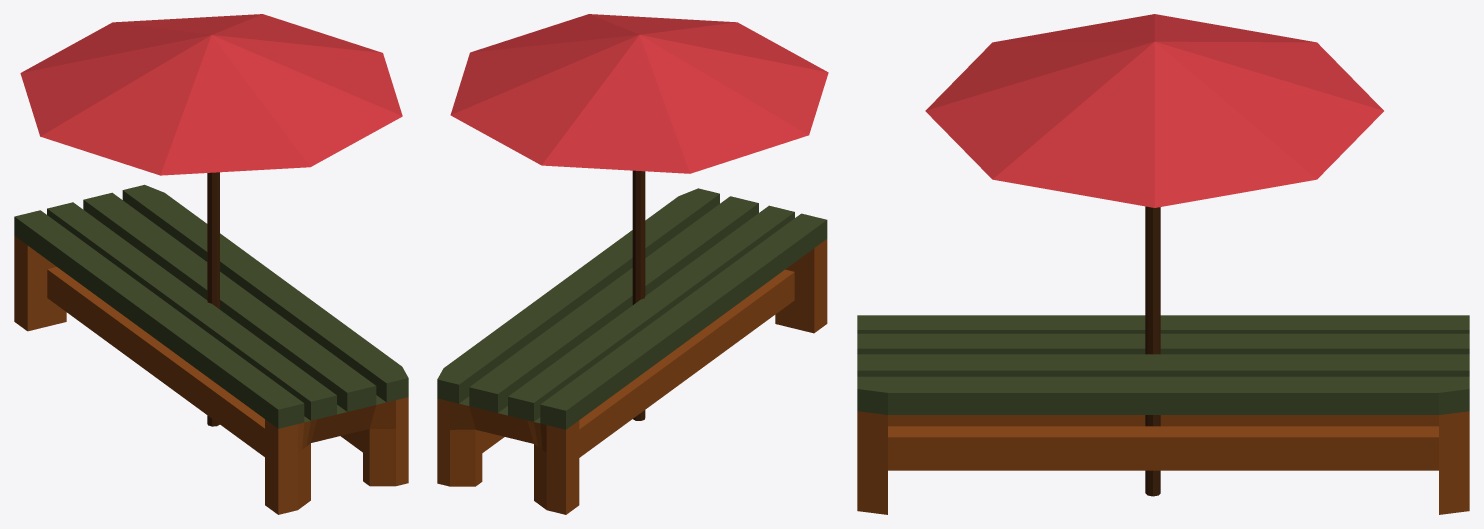
File: ParkTableWithUmbrella.fbx
3 views of the same model, side by side, from view 1: azimuth 30°, elevation 25°; view 2: azimuth 150°, elevation 25°; view 3: azimuth 270°, elevation 25° (orthographic). The views are drawn at different scales.
Visible parts, largest first — view 1: Cube.003, Cone, Cylinder; view 2: Cube.003, Cone, Cylinder; view 3: Cube.003, Cone, Cylinder.
Boxes of the visible parts, x1,y1,x2,y2 form: Cube.003: [14, 184, 408, 514]; Cone: [20, 14, 402, 175]; Cylinder: [207, 172, 219, 426]; Cube.003: [437, 188, 827, 514]; Cone: [450, 14, 828, 173]; Cylinder: [632, 170, 645, 420]; Cube.003: [857, 315, 1469, 514]; Cone: [925, 14, 1383, 207]; Cylinder: [1145, 206, 1160, 496].
Bounding box in the file's own units: 300 × 325 × 400.
